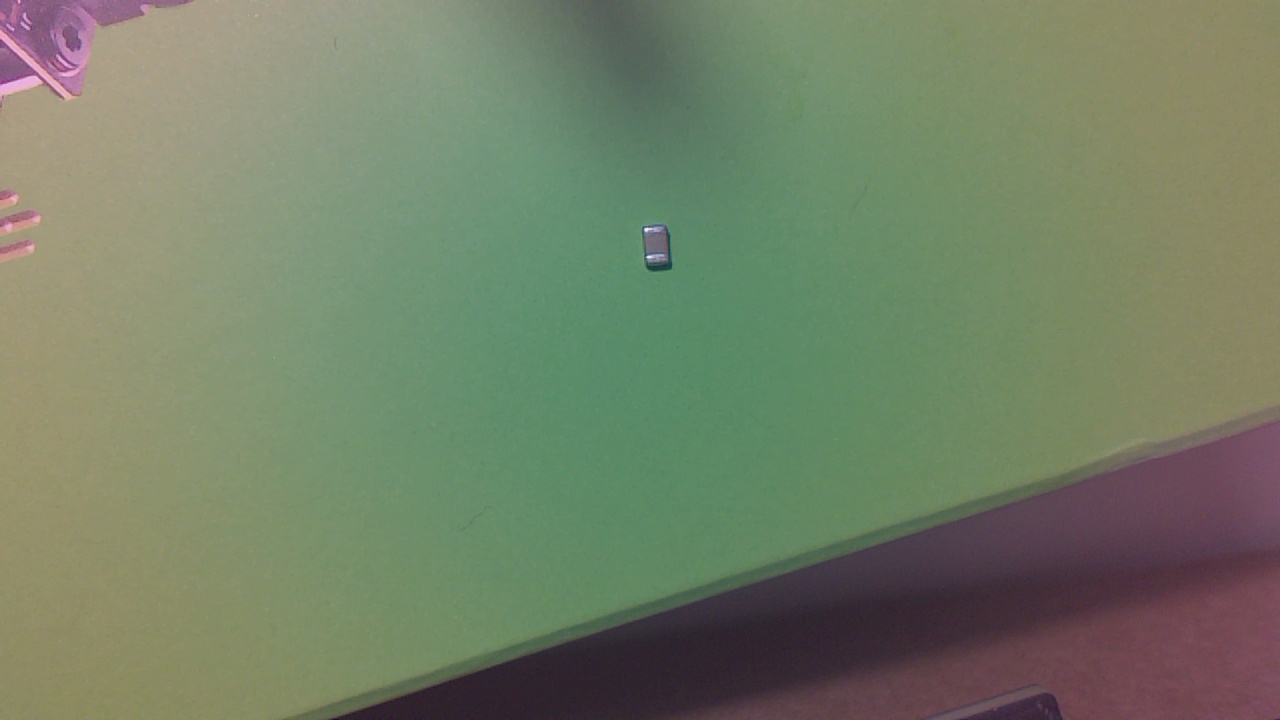Condensator: (646, 228, 678, 278)
